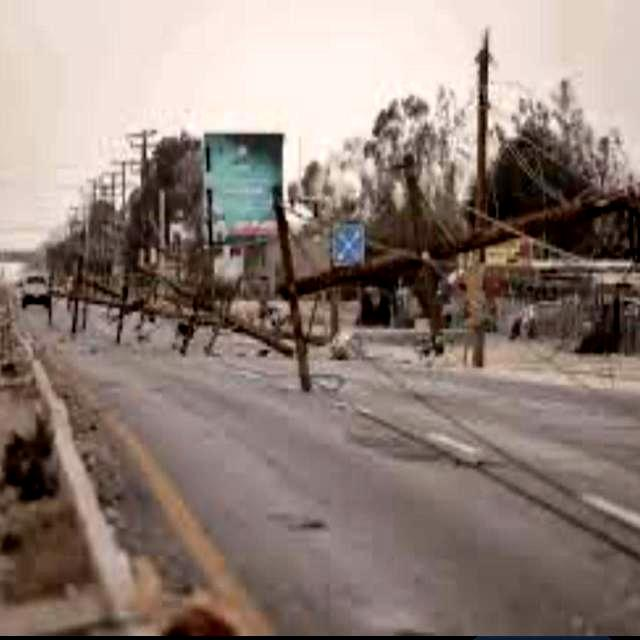Broken Pole: (269, 153, 640, 402), (175, 261, 291, 361)
